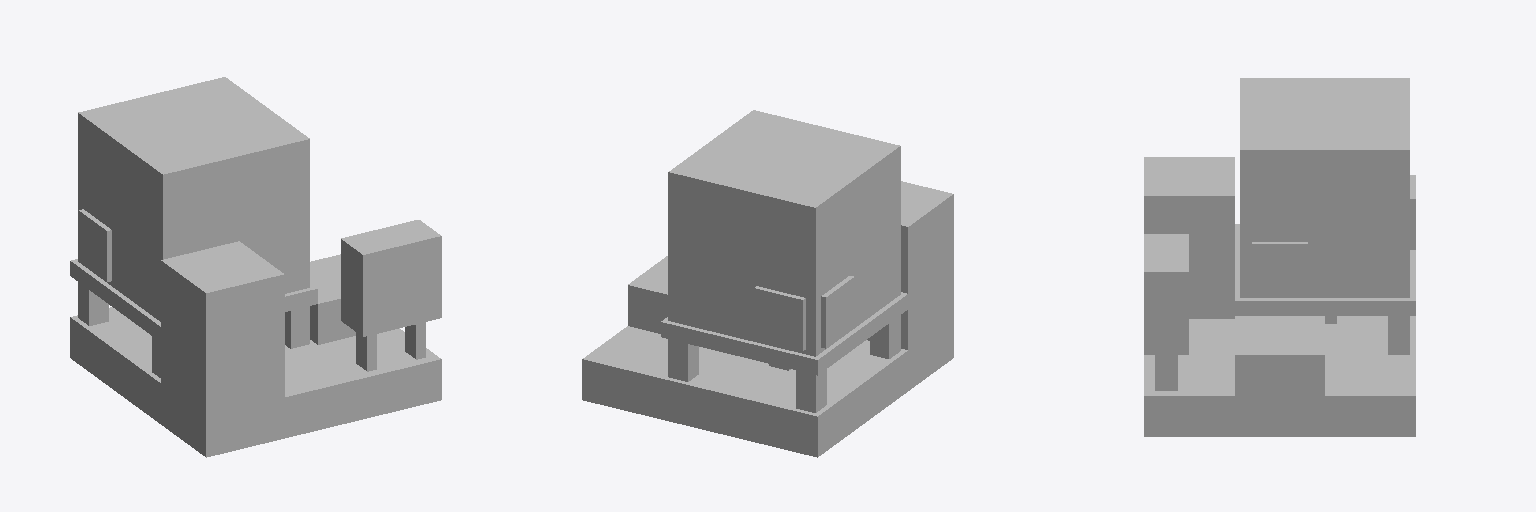
The model's file is fermenter.obj.
The picture shows the model from 3 angles: view 1: azimuth 30°, elevation 25°; view 2: azimuth 150°, elevation 25°; view 3: azimuth 270°, elevation 25°; orthographic projection.
Parts seen in each view (by area): view 1: tank, base, energy, redstone, output, bottom, in1, fence1, fence4, leg2, leg1; view 2: tank, base, energy, bottom, in2, output, in1, fence4, fence3, fence2; view 3: tank, base, energy, output, redstone, bottom, out, fence3, leg1.
Boxes of the visible parts, x1,y1,x2,y2 form: tank: [78, 77, 309, 321]; base: [70, 307, 441, 457]; energy: [161, 241, 284, 416]; redstone: [341, 220, 441, 336]; output: [310, 254, 355, 344]; bottom: [70, 259, 317, 341]; in1: [79, 209, 111, 281]; fence1: [285, 306, 309, 348]; fence4: [78, 282, 108, 325]; leg2: [356, 332, 376, 371]; leg1: [405, 322, 425, 359]; tank: [668, 110, 900, 356]; base: [582, 317, 953, 457]; energy: [867, 181, 953, 349]; bottom: [661, 292, 907, 375]; in2: [754, 286, 805, 350]; output: [628, 256, 667, 333]; in1: [821, 276, 854, 348]; fence4: [796, 369, 826, 412]; fence3: [668, 339, 698, 381]; fence2: [870, 315, 900, 358]; tank: [1240, 78, 1409, 297]; base: [1144, 316, 1415, 436]; energy: [1144, 157, 1234, 318]; output: [1235, 316, 1324, 395]; redstone: [1144, 234, 1188, 354]; bottom: [1235, 224, 1415, 315]; out: [1252, 242, 1307, 295]; fence3: [1388, 316, 1409, 354]; leg1: [1155, 355, 1177, 390].
Size of the model in its own units: 3 by 3 by 3.